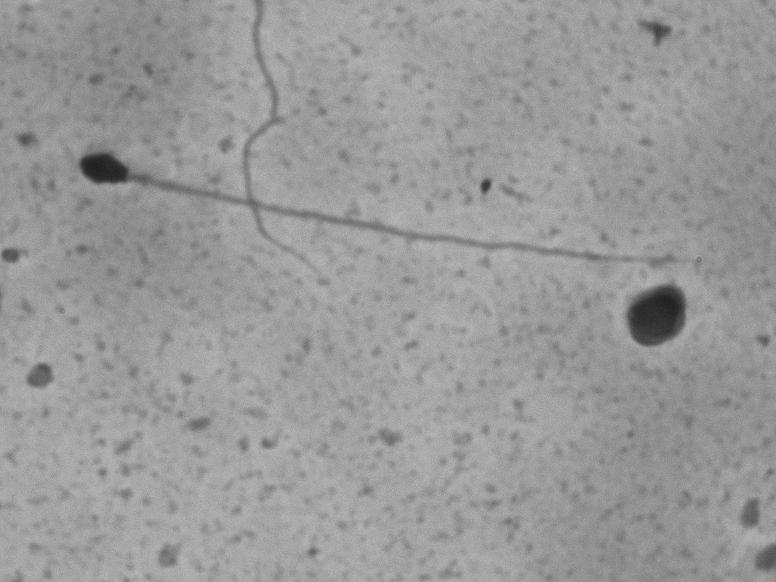Abnormal: (73, 141, 711, 265)
